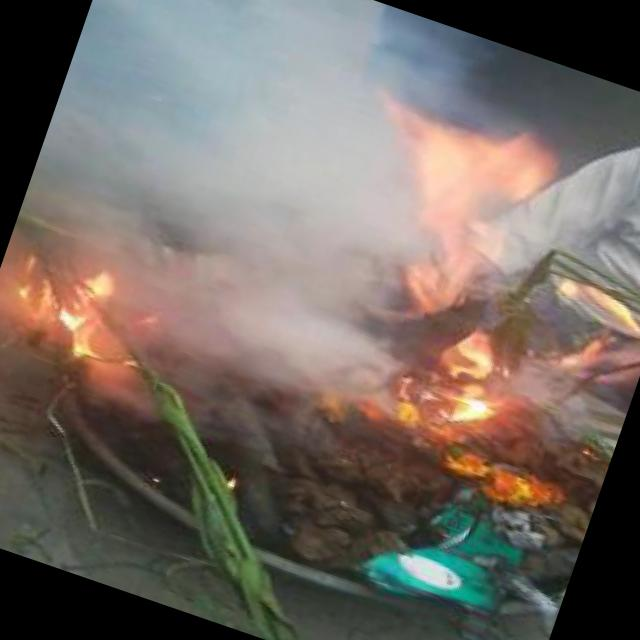fire: (363, 103, 591, 375), (10, 246, 153, 378), (409, 349, 515, 446)
smoke: (106, 274, 376, 414)
